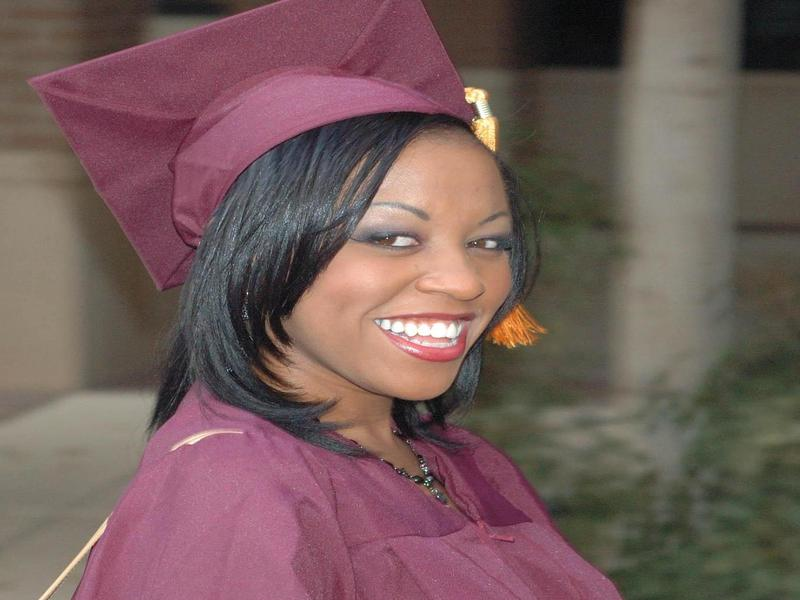person: (34, 1, 616, 597)
